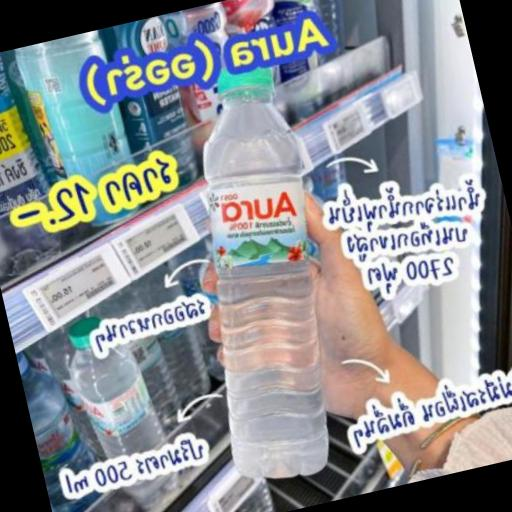Coca: (136, 40, 379, 496)
